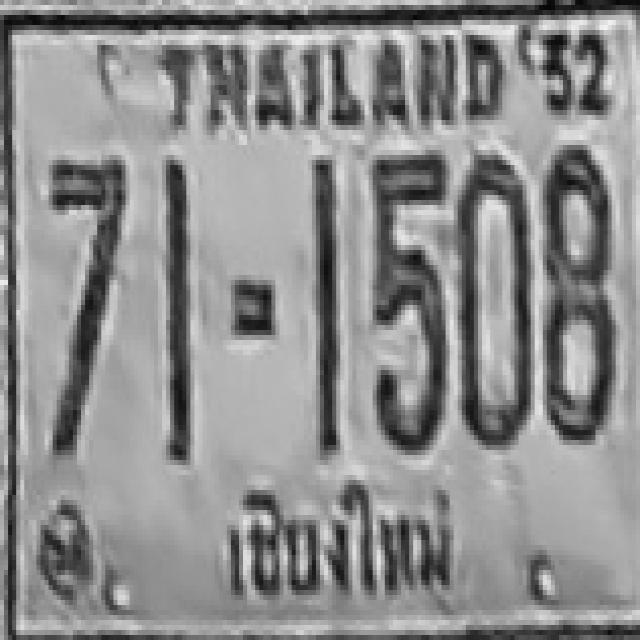0: (456, 152, 532, 442), (456, 152, 532, 362)
1: (162, 158, 190, 398)
7: (48, 152, 125, 418), (48, 155, 125, 385)
8: (540, 142, 618, 442)
ChiangMai: (218, 482, 452, 598)
